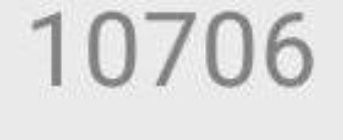TextView: (1, 1, 342, 139)
